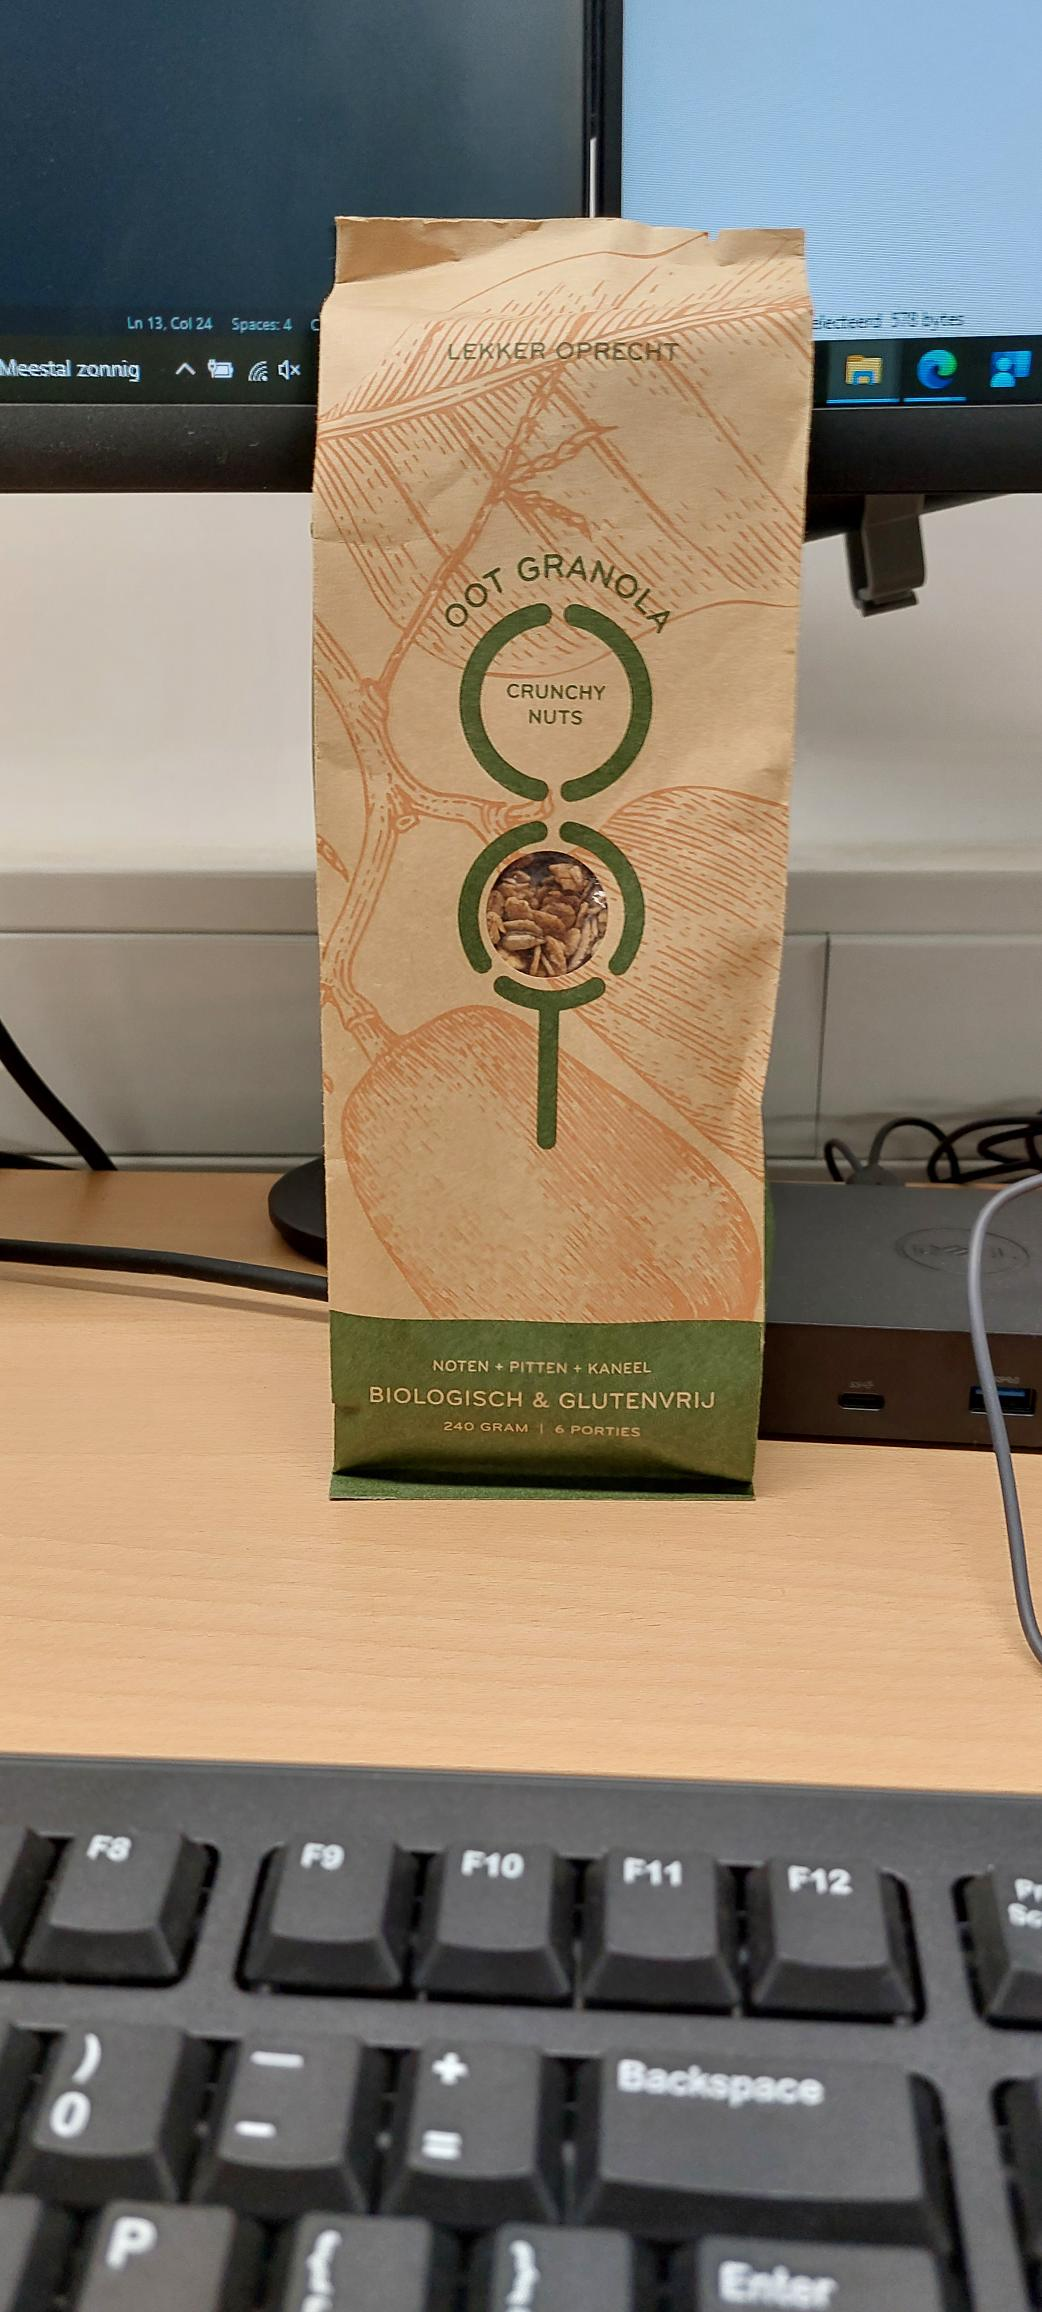CrunchyNuts: (349, 255, 740, 1500)
